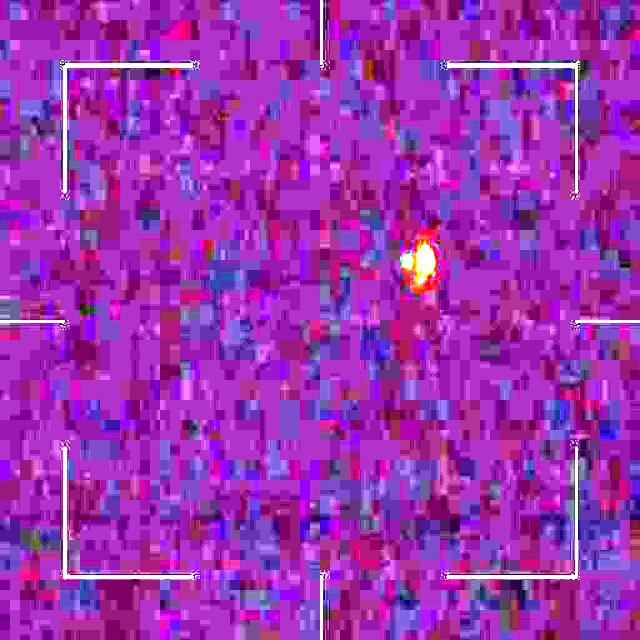bird: (402, 240, 439, 298)
